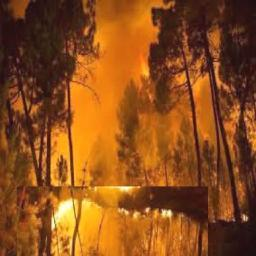Heavy smoke: (0, 0, 228, 255)
Small fire: (16, 175, 194, 228)
